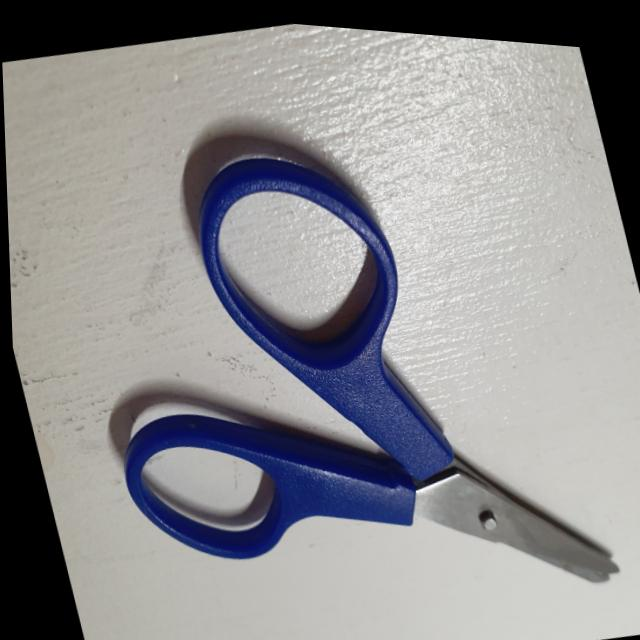scissor: (40, 73, 622, 640)
